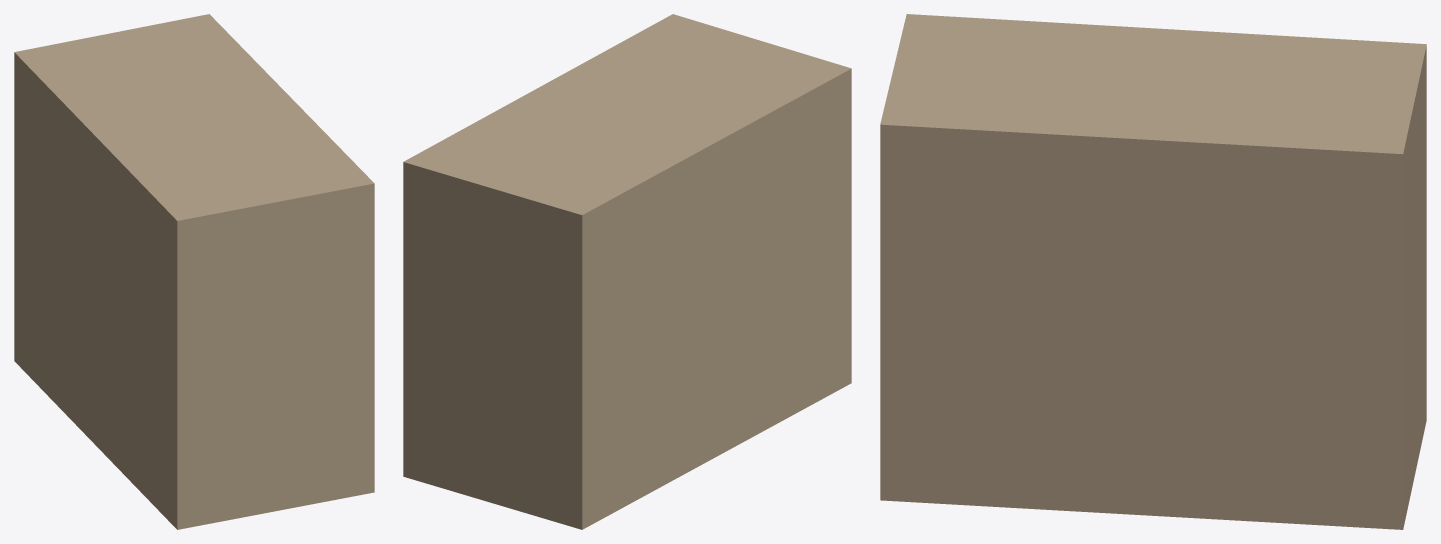
The model's file is bld_98640373.dae.
The picture shows the model from 3 angles, left to right: view 1: azimuth 30°, elevation 25°; view 2: azimuth 150°, elevation 25°; view 3: azimuth 270°, elevation 25°; orthographic projection. The views are drawn at different scales.
Visible parts, largest first — view 1: bld_98640373; view 2: bld_98640373; view 3: bld_98640373.
Boxes of the visible parts, x1,y1,x2,y2 form: bld_98640373: (14,14,374,529); bld_98640373: (403,14,851,529); bld_98640373: (880,14,1426,529).
Bounding box in the file's own units: 6.4 × 10.55 × 8.
